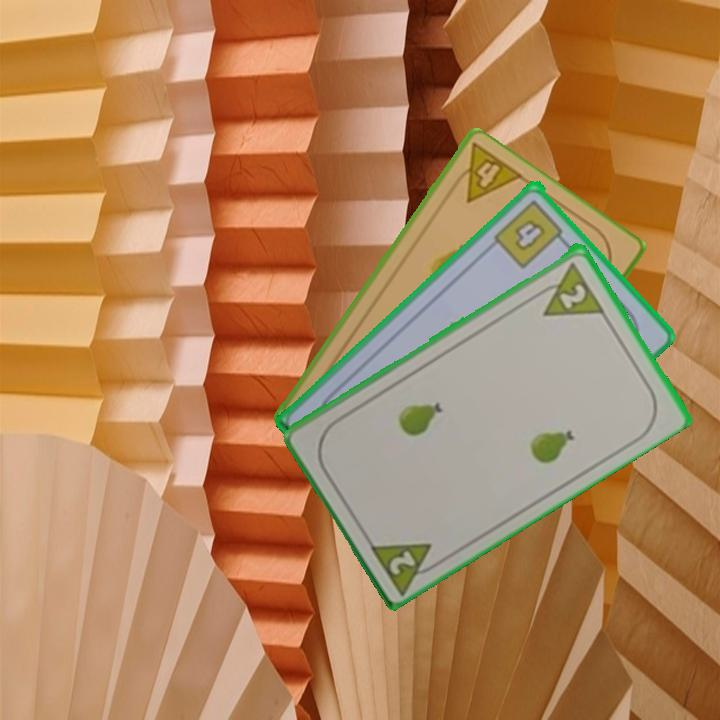2p: (365, 537, 446, 596), (529, 258, 607, 319)
4b: (490, 195, 571, 271)
4p: (444, 139, 526, 206)
